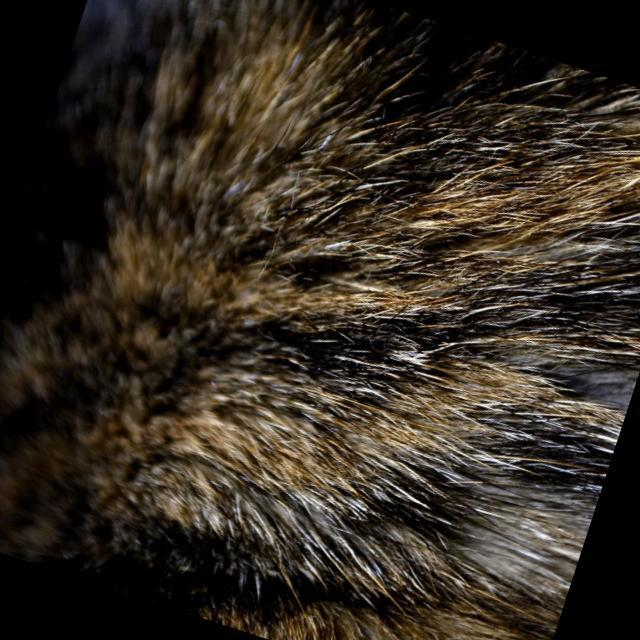Healthy skin: (52, 351, 456, 640), (376, 86, 640, 466), (138, 67, 418, 321)
